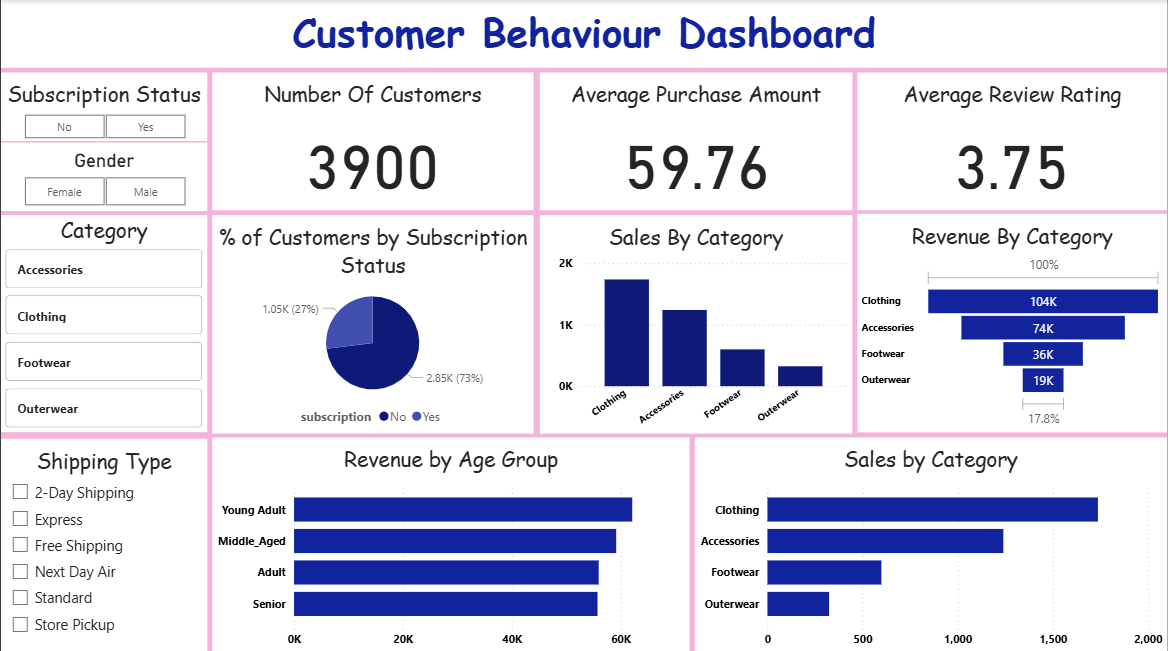

The dashboard page shown, as its layout file describes it:
{"tool":"powerbi","page":{"name":"Page 1","canvas":[1280,720],"ordinal":0},"visuals":[{"type":"textbox","box":[0,0,1280.3,74.1],"z":0},{"type":"card","title":"Number Of Customers","fields":{"Values":["CountNonNull(public customer.customer_id)"]},"box":[231.9,79.6,352.7,150.9],"z":1000},{"type":"card","title":"Average Purchase Amount","fields":{"Values":["Avg(public customer.purchase_amount)"]},"box":[591.4,79.6,343.1,150.9],"z":2000},{"type":"card","title":"Average Review Rating","fields":{"Values":["Avg(public customer.review_rating)"]},"box":[939.7,79.6,340.3,150.9],"z":3000},{"type":"slicer","title":"Subscription Status","fields":{"Values":["public customer.subscription_status"]},"box":[0,79.6,226.4,75.5],"z":4000},{"type":"slicer","title":"Gender","fields":{"Values":["public customer.gender"]},"box":[0,156.4,226.4,75.5],"z":5000},{"type":"slicer","title":"Shipping Type","fields":{"Values":["public customer.shipping_type"]},"box":[0,481.6,226.4,237.4],"z":6000},{"type":"funnel","title":"Revenue By Category","fields":{"Category":["public customer.category"],"Y":["Sum(public customer.purchase_amount)"]},"box":[939.7,234.6,340.3,240.1],"z":7000},{"type":"columnChart","title":"Sales By Category","fields":{"Y":["CountNonNull(public customer.customer_id)"],"Category":["public customer.category"]},"box":[591.4,236,343.1,240.1],"z":8000},{"type":"clusteredBarChart","title":"Revenue by Age Group","fields":{"Y":["Sum(public customer.purchase_amount)"],"Category":["public customer.age_group"]},"box":[231.9,480.3,524.2,240.1],"z":9000},{"type":"clusteredBarChart","title":"Sales by Category","fields":{"Category":["public customer.category"],"Y":["CountNonNull(public customer.customer_id)"]},"box":[761.6,480.3,518.7,240.1],"z":10000},{"type":"advancedSlicerVisual","title":"Category","fields":{"Values":["public customer.category"]},"box":[0,236,226.4,238.8],"z":11000},{"type":"pieChart","title":"% of Customers by Subscription Status","fields":{"Category":["public customer.subscription_status"],"Y":["CountNonNull(public customer.subscription_status)"]},"box":[231.9,236,352.7,240.1],"z":12000}]}

Visuals, with their boxes in screenshot pixels (x1, y1, x2, y2), scaled from the page's 1280x720 canvas onto the 1168x651 screenshot:
textbox: rect(0, 0, 1167, 67)
"Number Of Customers" card: rect(212, 72, 533, 208)
"Average Purchase Amount" card: rect(540, 72, 853, 208)
"Average Review Rating" card: rect(857, 72, 1167, 208)
"Subscription Status" slicer: rect(0, 72, 207, 140)
"Gender" slicer: rect(0, 141, 207, 210)
"Shipping Type" slicer: rect(0, 435, 207, 650)
"Revenue By Category" funnel: rect(857, 212, 1167, 429)
"Sales By Category" columnChart: rect(540, 213, 853, 430)
"Revenue by Age Group" clusteredBarChart: rect(212, 434, 690, 650)
"Sales by Category" clusteredBarChart: rect(695, 434, 1167, 650)
"Category" advancedSlicerVisual: rect(0, 213, 207, 429)
"% of Customers by Subscription Status" pieChart: rect(212, 213, 533, 430)
